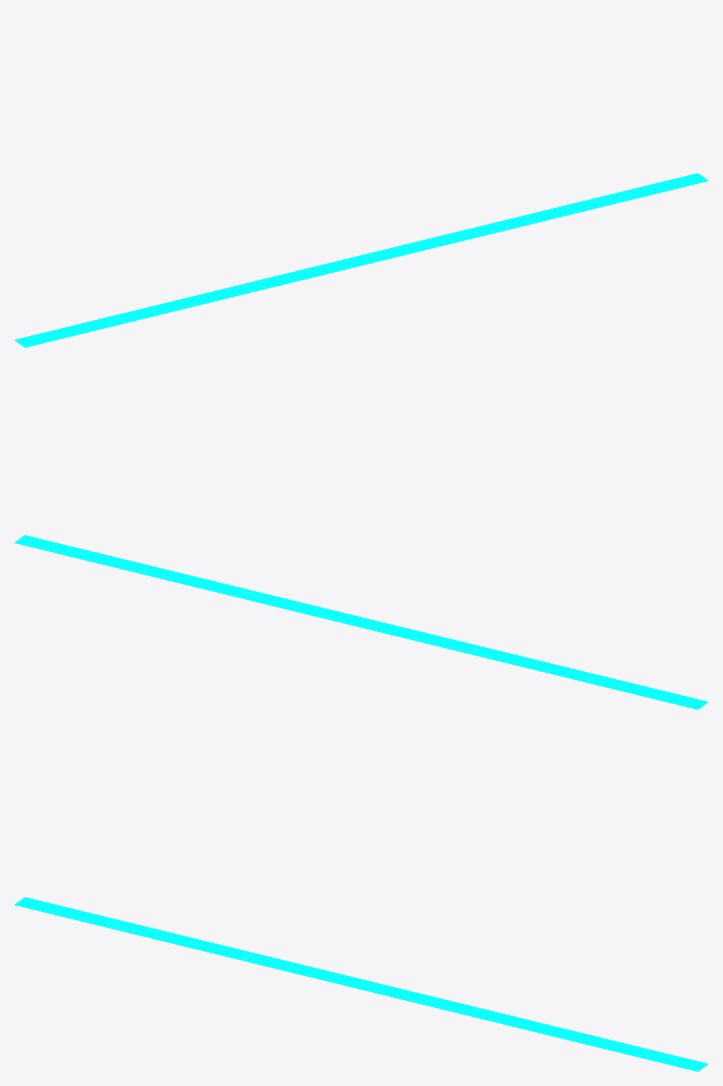
File: GlassPerimeterRailing.fbx
The picture shows the model from 3 angles, top to bottom: view 1: azimuth 30°, elevation 25°; view 2: azimuth 150°, elevation 25°; view 3: azimuth 330°, elevation 25°; orthographic projection.
Parts seen in each view (by area): view 1: GlassPerimeterRailing; view 2: GlassPerimeterRailing; view 3: GlassPerimeterRailing.
Boxes of the visible parts, left/top/right/bottom form: GlassPerimeterRailing: left=14, top=173, right=708, bottom=347; GlassPerimeterRailing: left=14, top=535, right=708, bottom=709; GlassPerimeterRailing: left=14, top=897, right=708, bottom=1071.
Size of the model in its own units: 360 by 80 by 10.
1 material, 1 textured.
